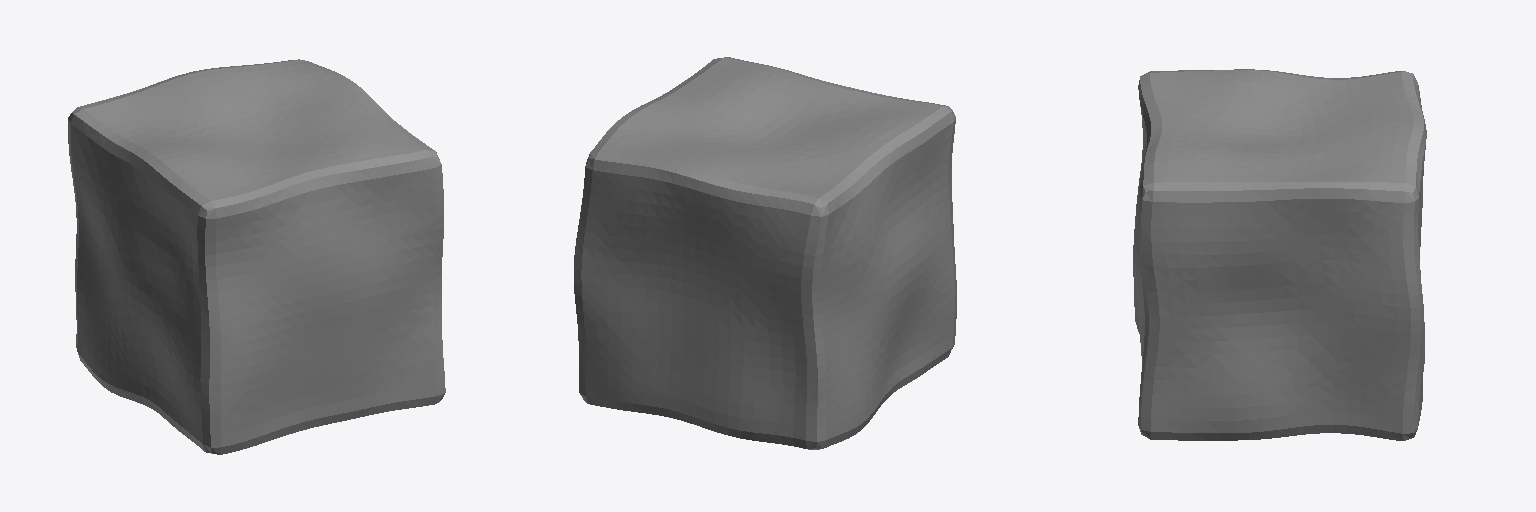
The model's file is bloc2_fromMax.obj.
3 views of the same model, side by side, from view 1: azimuth 30°, elevation 25°; view 2: azimuth 150°, elevation 25°; view 3: azimuth 270°, elevation 25° (orthographic).
Parts seen in each view (by area): view 1: Box008; view 2: Box008; view 3: Box008.
Part boxes in pixels (bbox=[...]): Box008: bbox=[68, 59, 445, 454]; Box008: bbox=[574, 57, 956, 449]; Box008: bbox=[1133, 69, 1426, 440].
Size of the model in its own units: 0.7353 by 0.7353 by 0.7347.